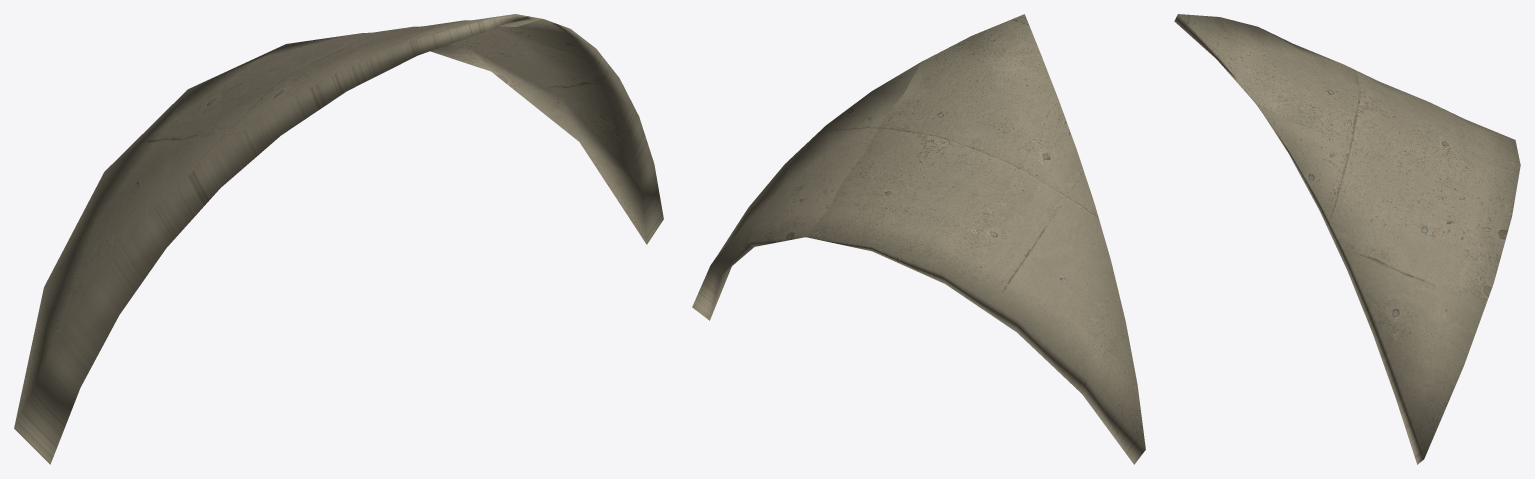
The model's file is roof-bended-2.fbx.
3 renders of one model, left to right at view 1: azimuth 30°, elevation 25°; view 2: azimuth 150°, elevation 25°; view 3: azimuth 270°, elevation 25°, orthographic. The views are drawn at different scales.
Visible parts, largest first — view 1: bended roof; view 2: bended roof; view 3: bended roof.
Boxes of the visible parts, x1,y1,x2,y2 form: bended roof: (14,14,663,464); bended roof: (692,14,1145,464); bended roof: (1174,14,1520,464).
Size of the model in its own units: 1092 by 760 by 622.
1 material, 1 textured.
